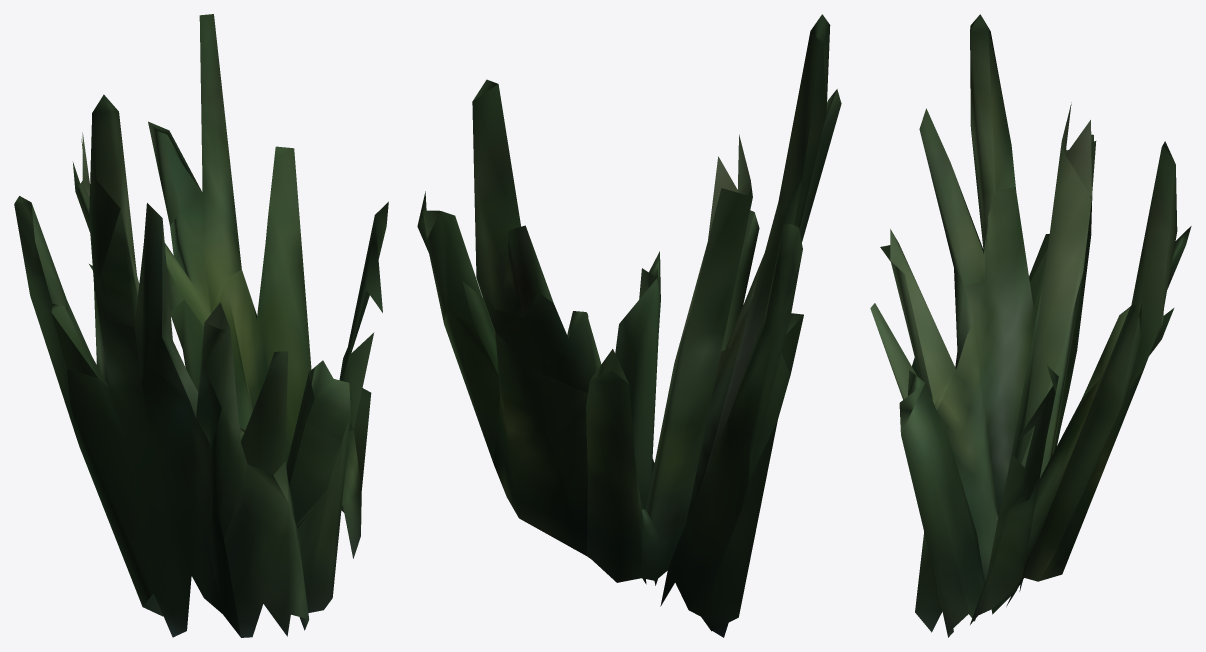
File: terrain4_plant_0.glb
The picture shows the model from 3 angles, left to right: view 1: azimuth 30°, elevation 25°; view 2: azimuth 150°, elevation 25°; view 3: azimuth 270°, elevation 25°; orthographic projection. The views are drawn at different scales.
Parts seen in each view (by area): view 1: plant_0; view 2: plant_0; view 3: plant_0.
Part boxes in pixels (left/top/right/bottom): plant_0: left=14, top=14, right=388, bottom=637; plant_0: left=417, top=14, right=841, bottom=637; plant_0: left=870, top=14, right=1191, bottom=637.
Size of the model in its own units: 8.75 by 13.35 by 7.14.
1 material, 1 textured.
